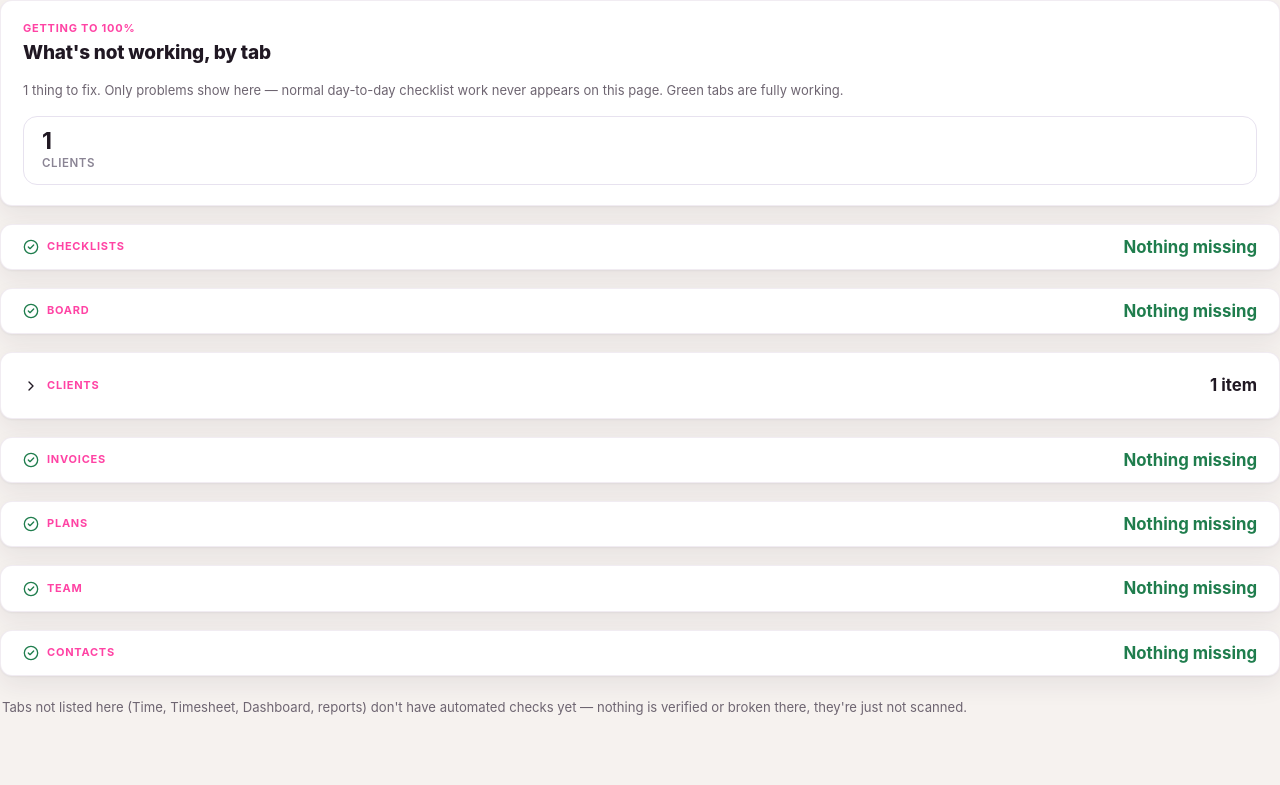
Test case: the plan checklists fix dialog offers Link existing › waits for a pending save before setting anything up
The width and height of the screenshot is (1280, 785).
Click the button with class "setup-cat-header" showing "Clients 1 item": coordinates (73, 385) [23, 373, 1257, 398]
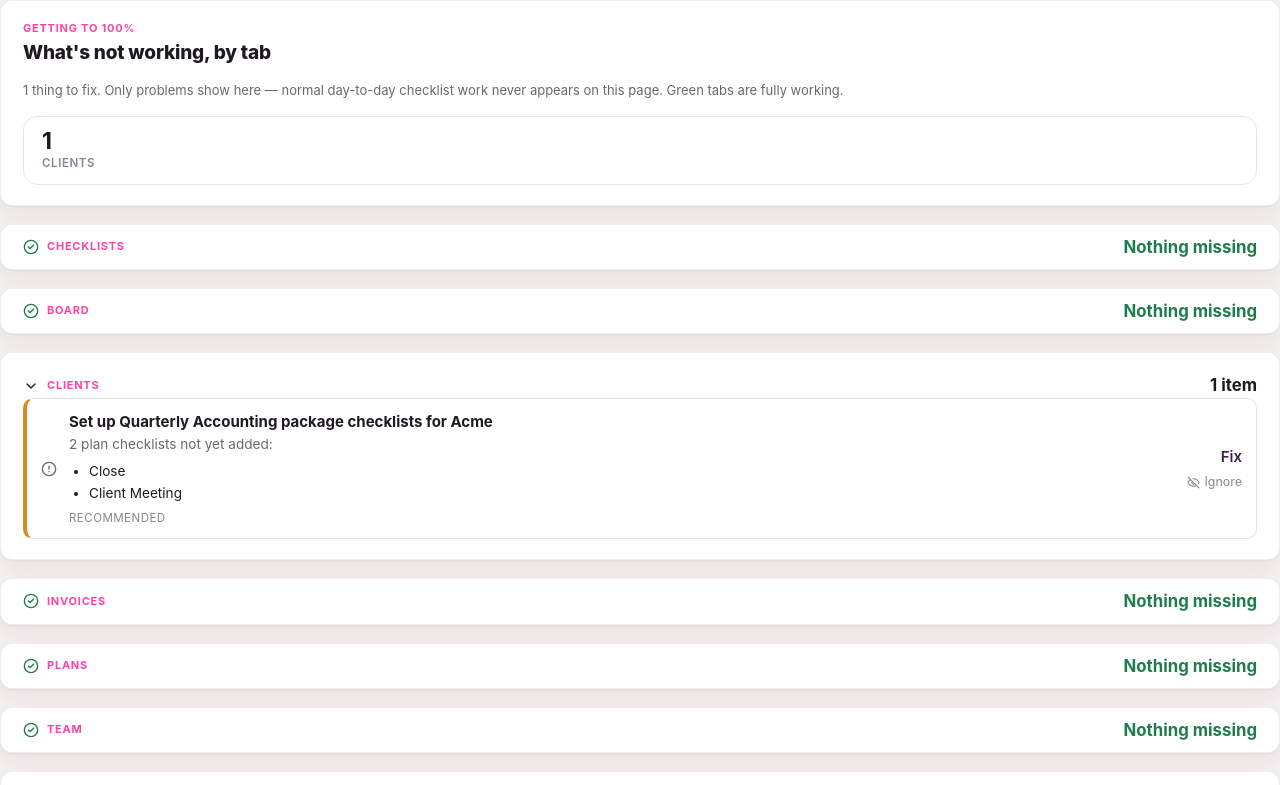
Click the button "Fix": coordinates (1231, 456) [1221, 446, 1242, 467]
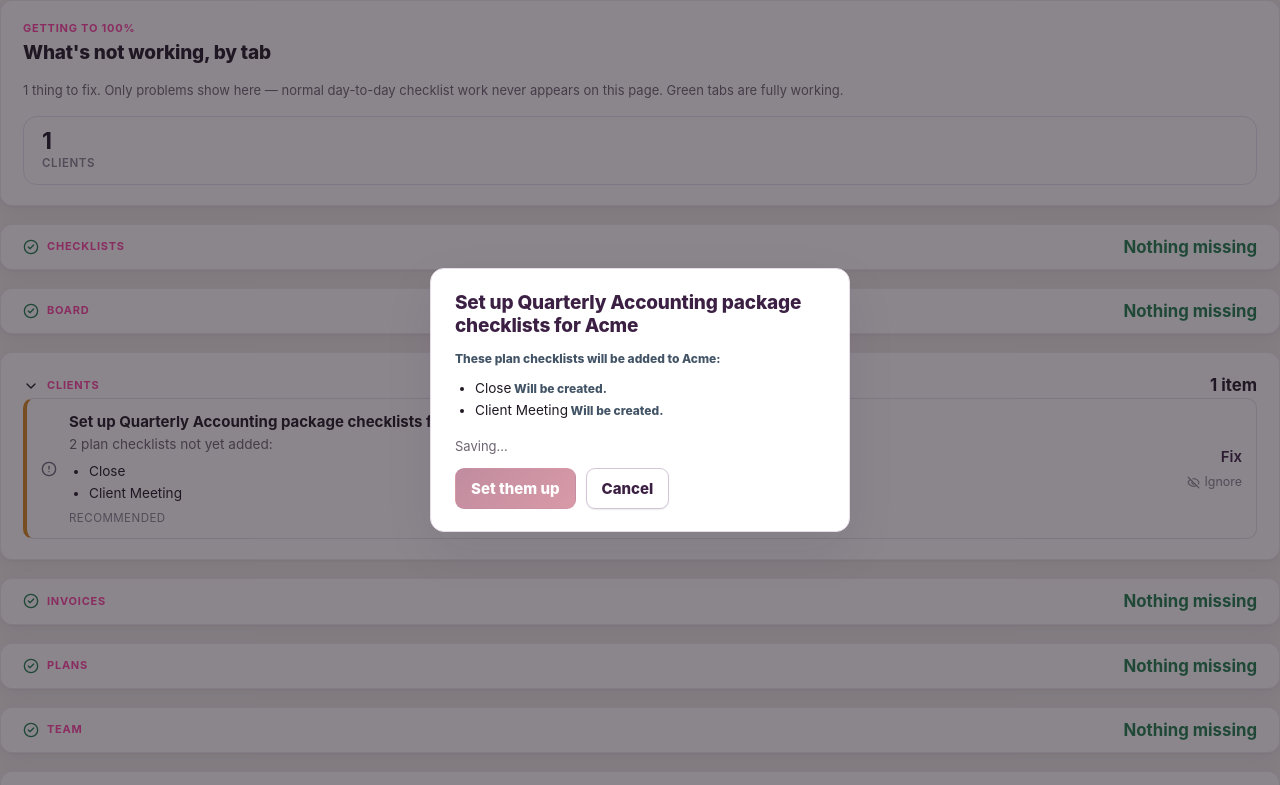
Check: the text "Saving…" is shown, box [455, 438, 508, 454]
Check: the button "Set them up" is disabled, box [455, 468, 576, 510]
